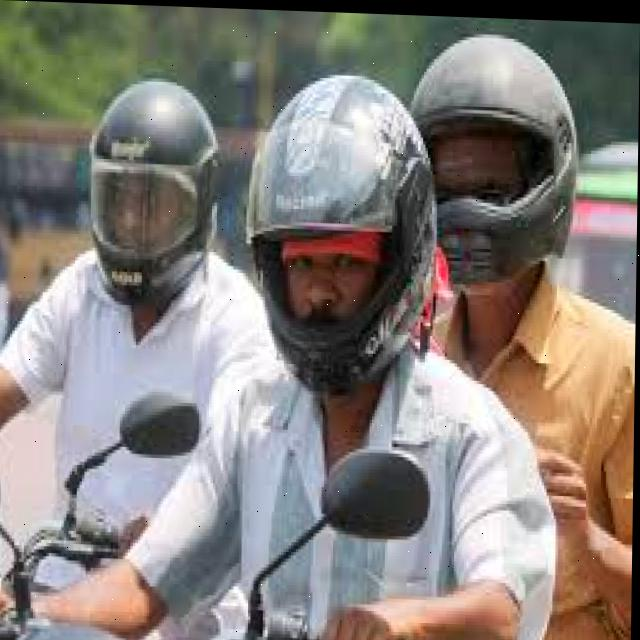Helmet: (246, 72, 437, 400), (406, 26, 581, 288), (89, 75, 219, 317)
